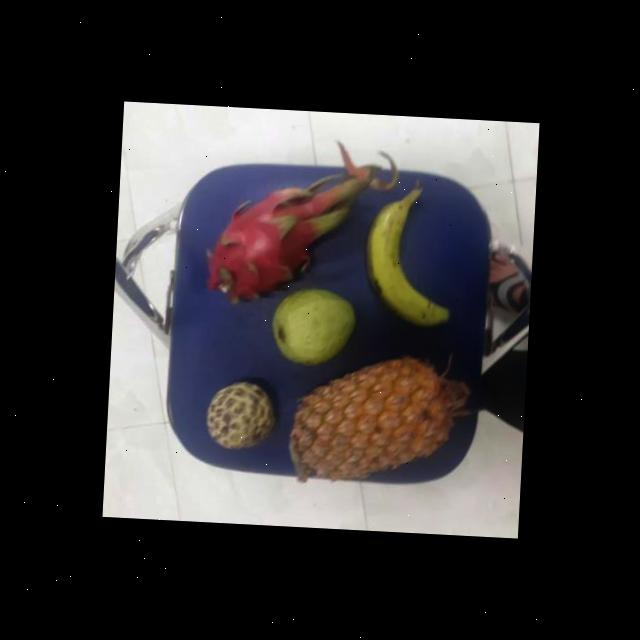Sakya fruit: (206, 376, 276, 452)
guava: (268, 284, 356, 368)
pineapple: (286, 354, 466, 482)
pitaya: (205, 182, 321, 306)
